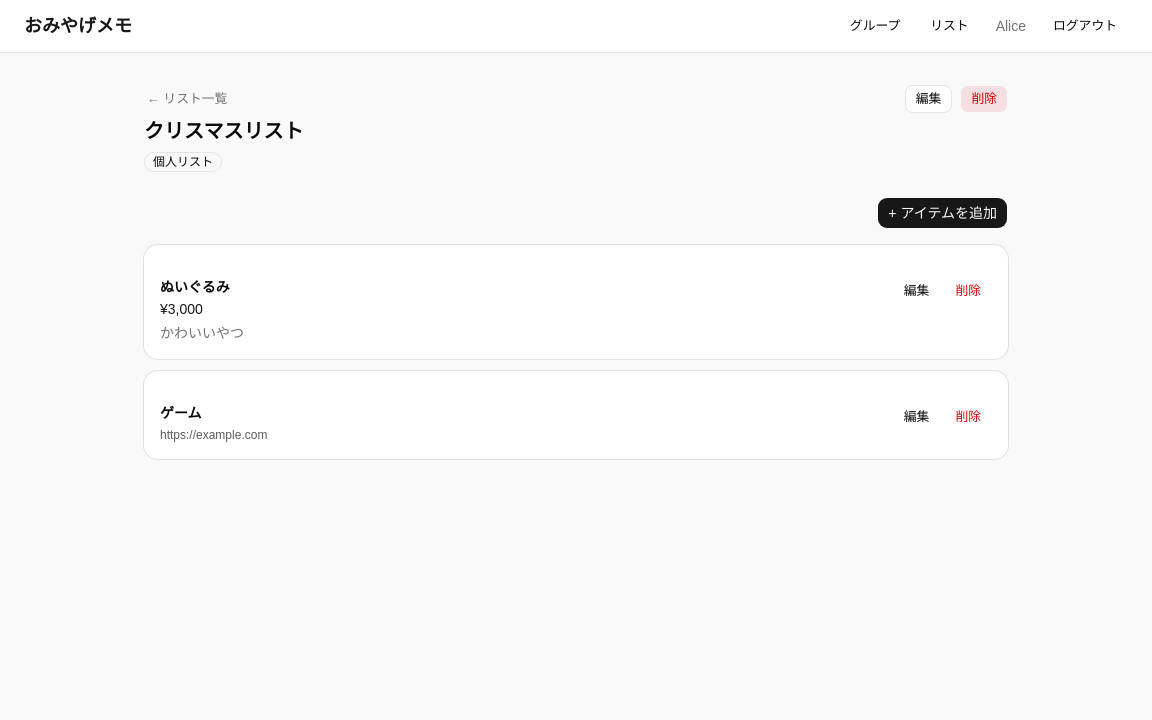
Test case: GiftListDetailPage › 「アイテムを追加」ボタンを押すとモーダルが開く
The width and height of the screenshot is (1152, 720).
Expected: the text "ぬいぐるみ" is shown, x1=160 y1=279 x2=230 y2=295
What coordinates should you click on to do the following:
click the button "+ アイテムを追加"
I would click on:
 (943, 213)
Its box is x1=877 y1=197 x2=1008 y2=229.
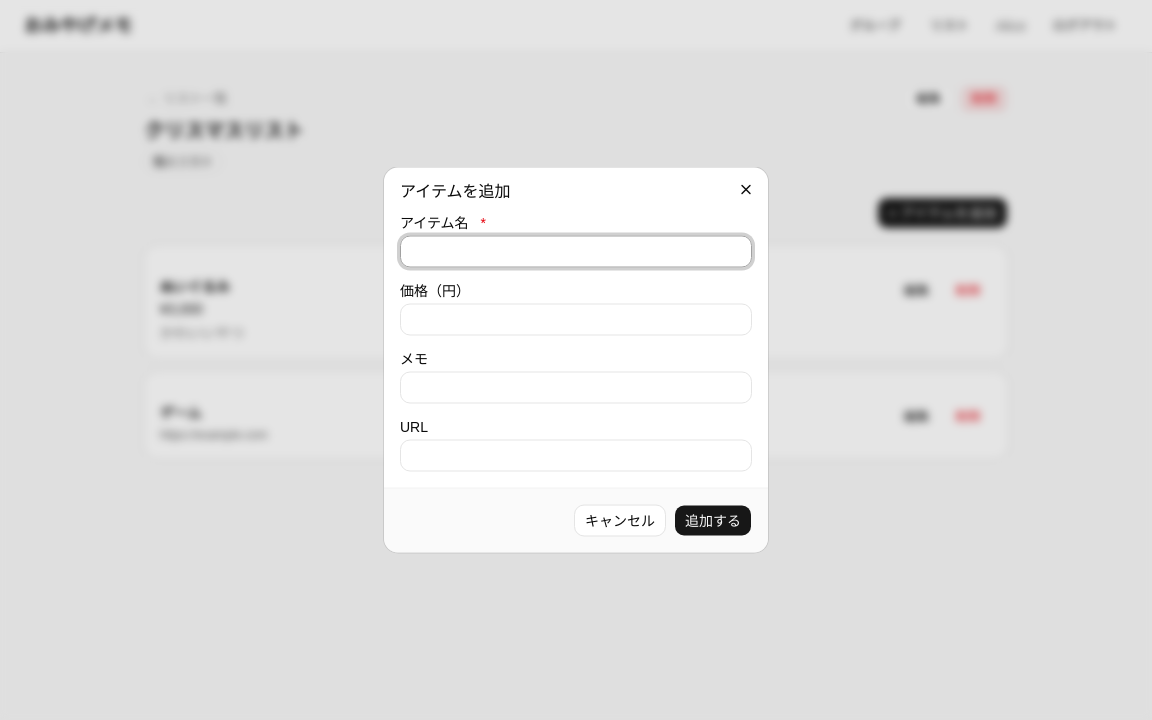
Result: the heading "アイテムを追加" is shown at x1=400 y1=182 x2=510 y2=200
